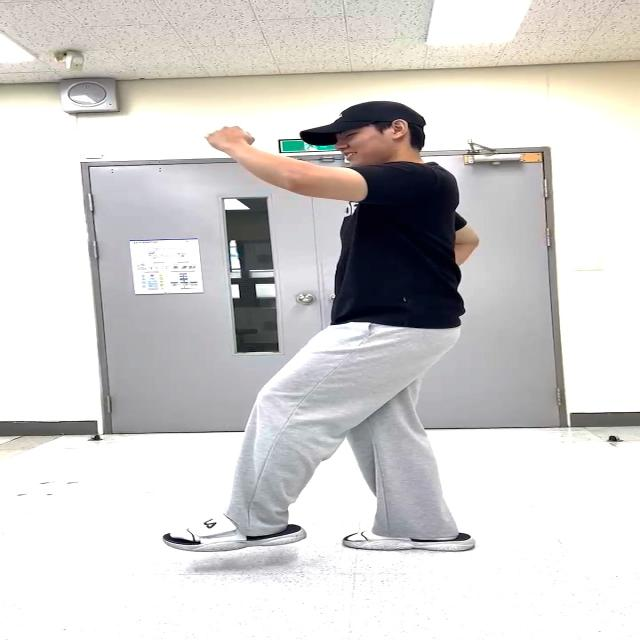leg: (172, 342, 368, 561)
